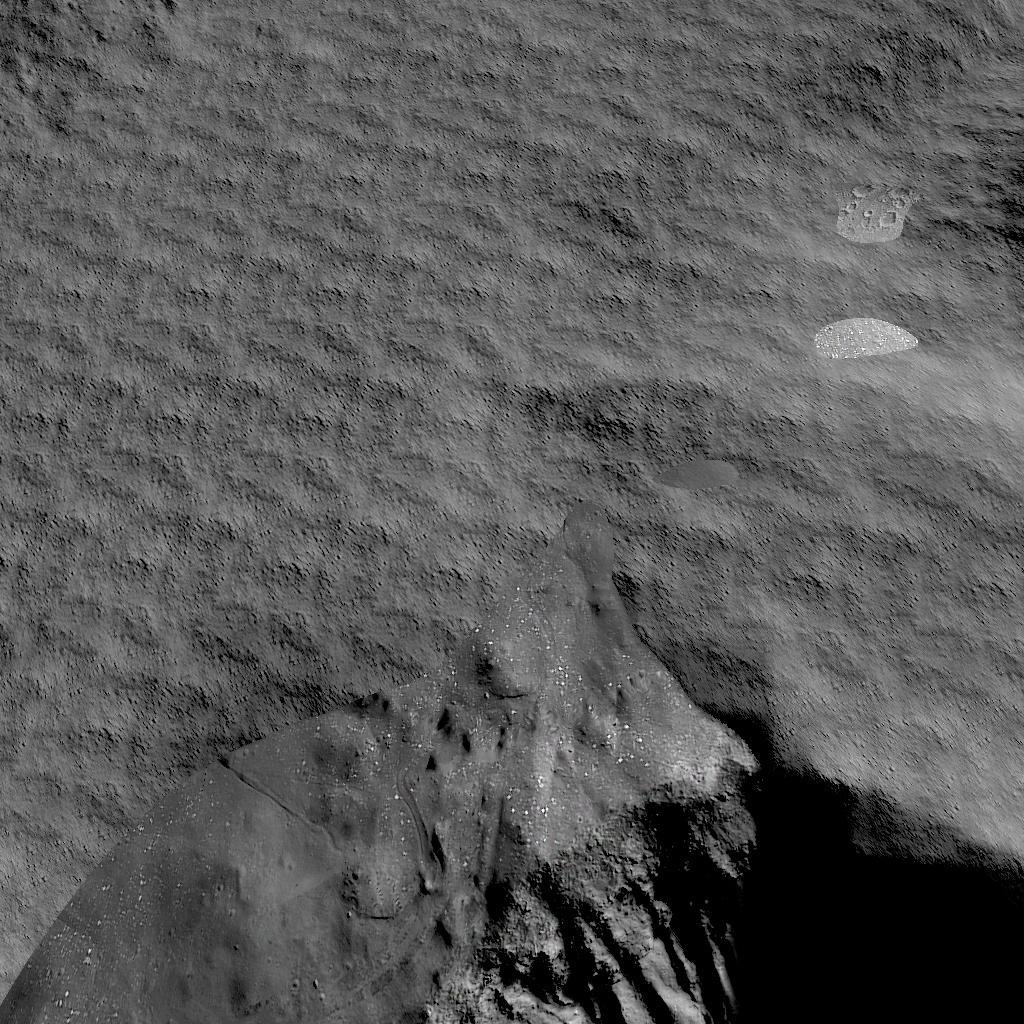Crater: (0, 678, 1024, 1024), (966, 158, 1024, 318)
Plan surface: (0, 0, 950, 663)
